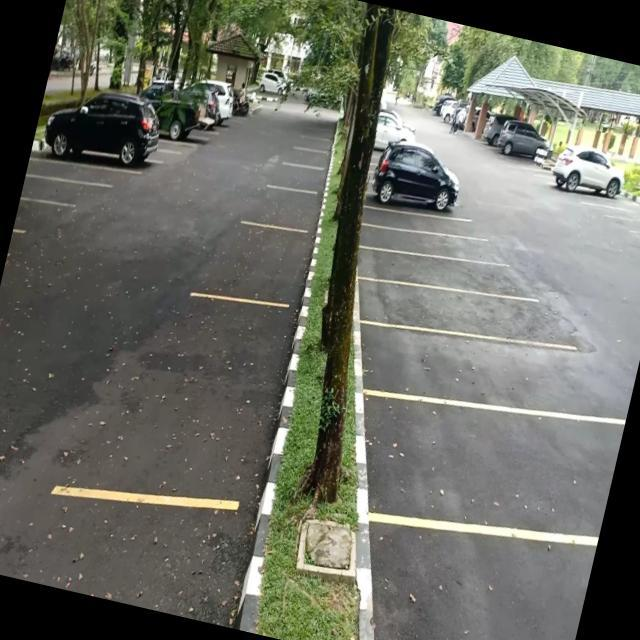empty: (364, 380, 623, 558), (109, 278, 304, 511), (371, 506, 595, 640), (360, 317, 562, 427), (359, 270, 521, 353), (359, 240, 506, 304), (219, 218, 311, 307), (358, 219, 492, 272), (257, 182, 321, 234), (21, 174, 89, 213), (270, 160, 328, 195), (288, 143, 332, 171), (611, 195, 640, 228)
occupied: (36, 109, 165, 180), (363, 164, 462, 227), (542, 156, 626, 205)
